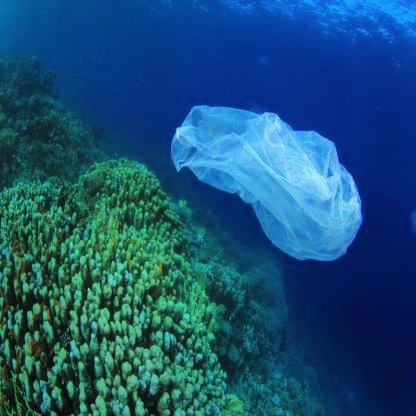pbag: (170, 104, 364, 263)
